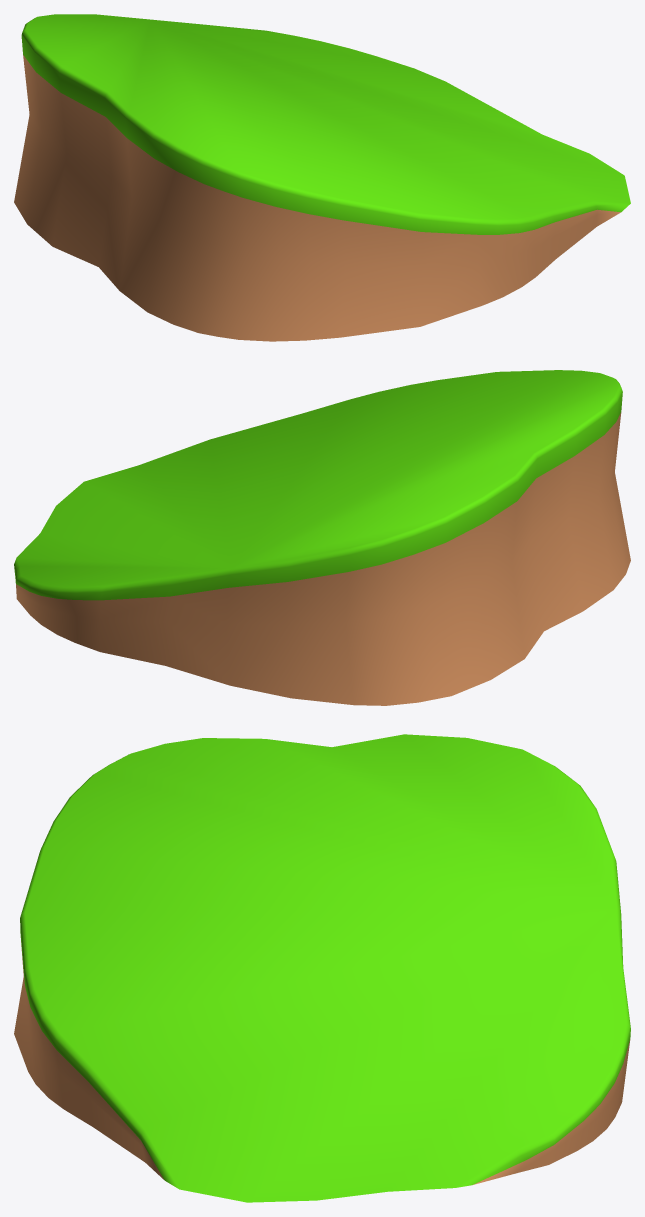
Rendered from Clif_2.fbx.
3 renders of one model, top to bottom at view 1: azimuth 30°, elevation 25°; view 2: azimuth 150°, elevation 25°; view 3: azimuth 270°, elevation 25°, orthographic. The views are drawn at different scales.
Parts seen in each view (by area): view 1: Clif_2; view 2: Clif_2; view 3: Clif_2.
Part boxes in pixels (left/top/right/bottom): Clif_2: left=14, top=14, right=630, bottom=341; Clif_2: left=14, top=370, right=630, bottom=705; Clif_2: left=14, top=734, right=630, bottom=1202.
Size of the model in its own units: 11.08 by 3.74 by 10.52.
